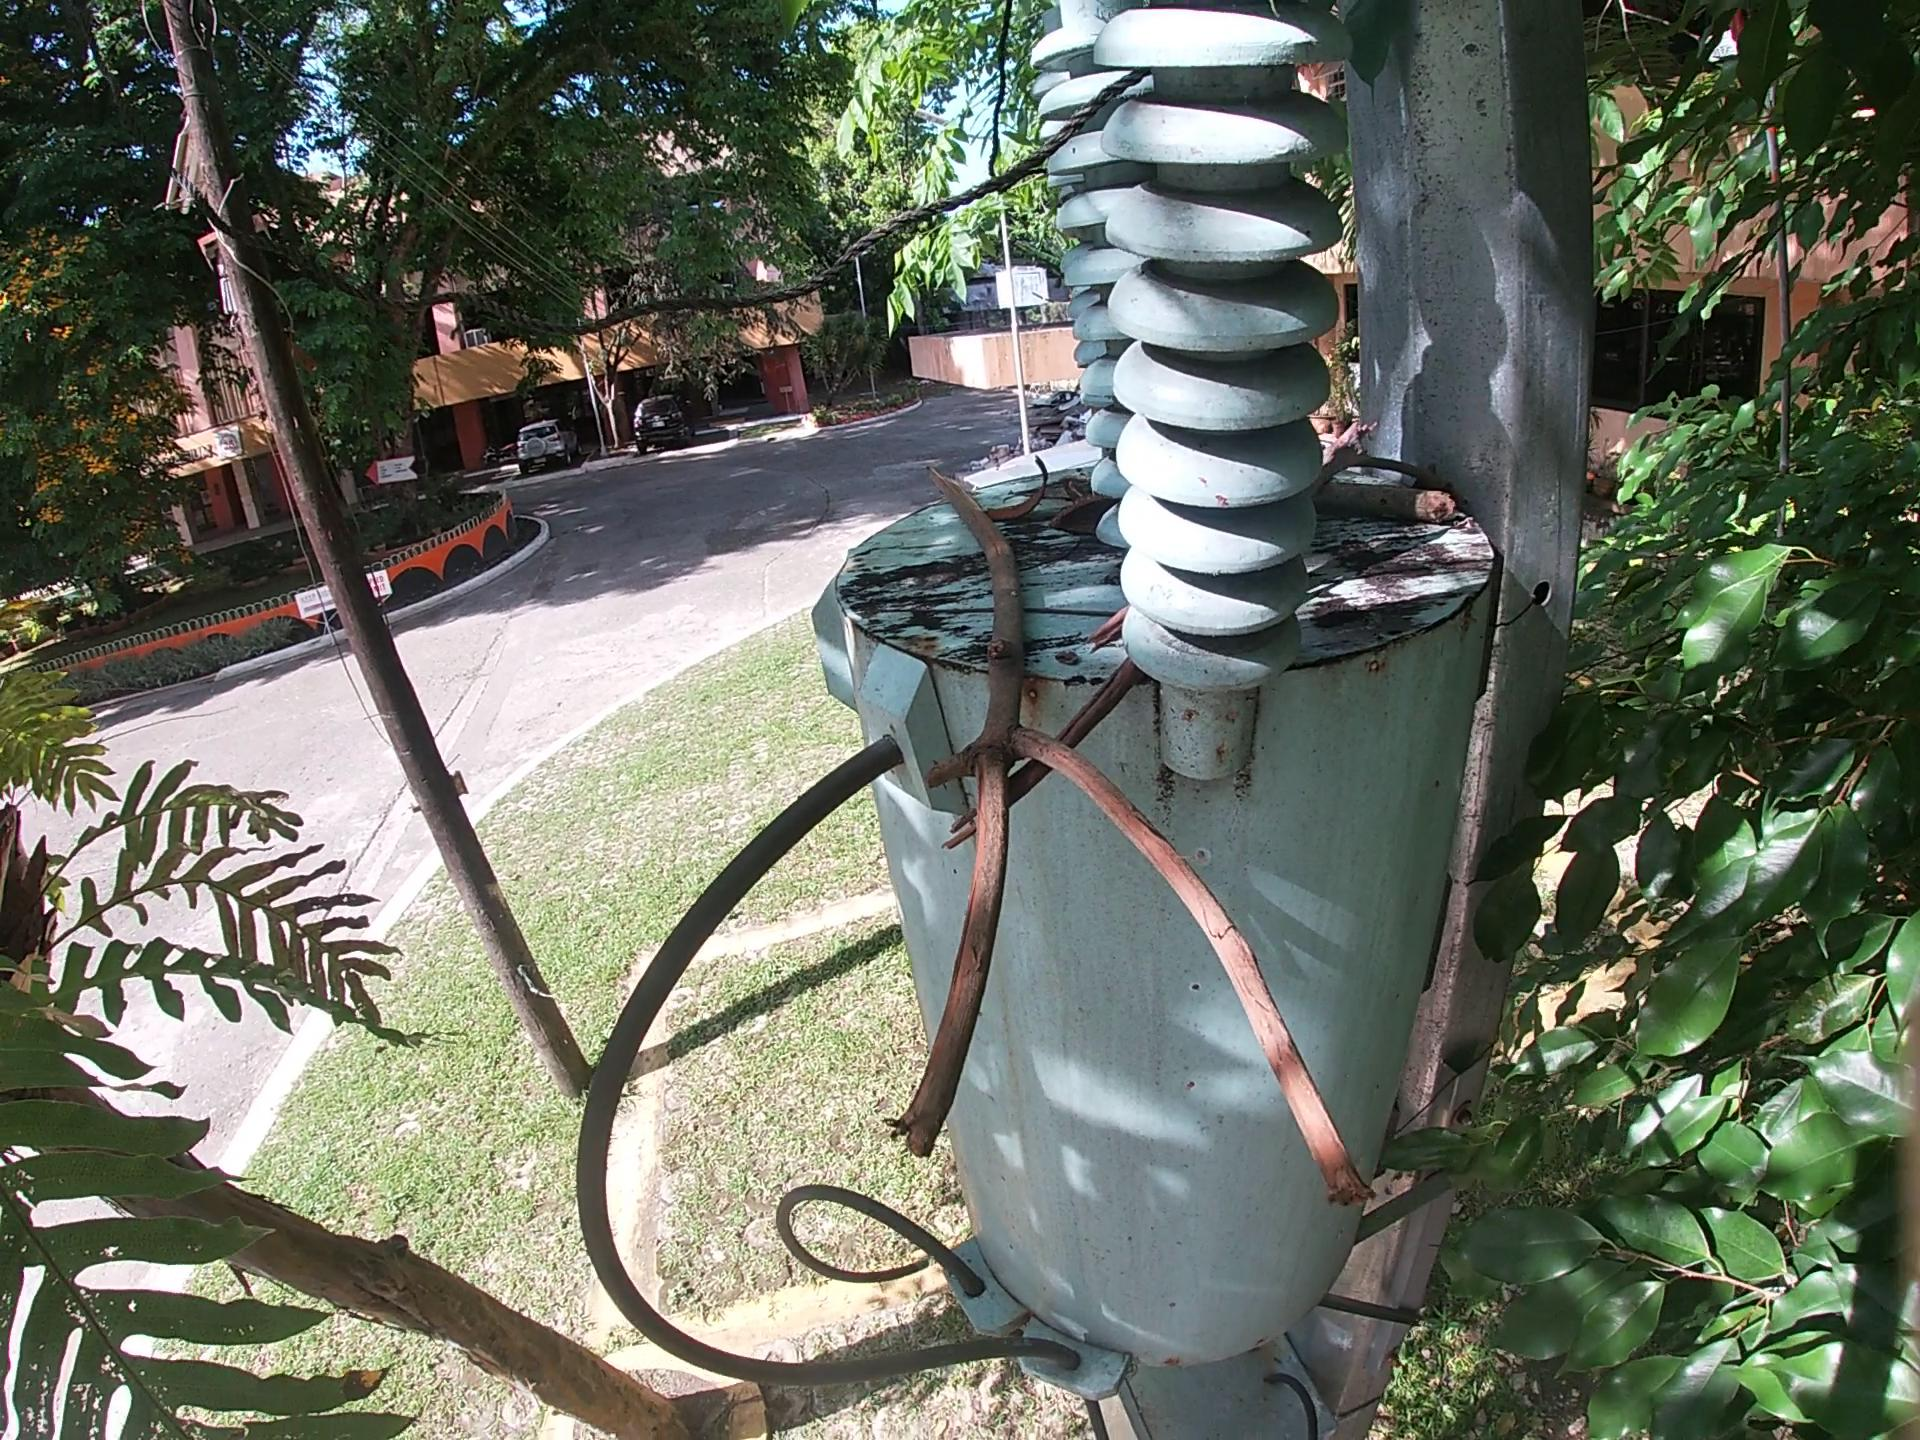mahogany fruit: (996, 458, 1054, 526), (1042, 505, 1108, 548)
tree branch: (869, 466, 1392, 1265), (946, 669, 1138, 846), (859, 601, 1120, 622), (1326, 489, 1492, 522), (1321, 399, 1385, 479), (1355, 458, 1456, 486), (1087, 616, 1119, 659)
